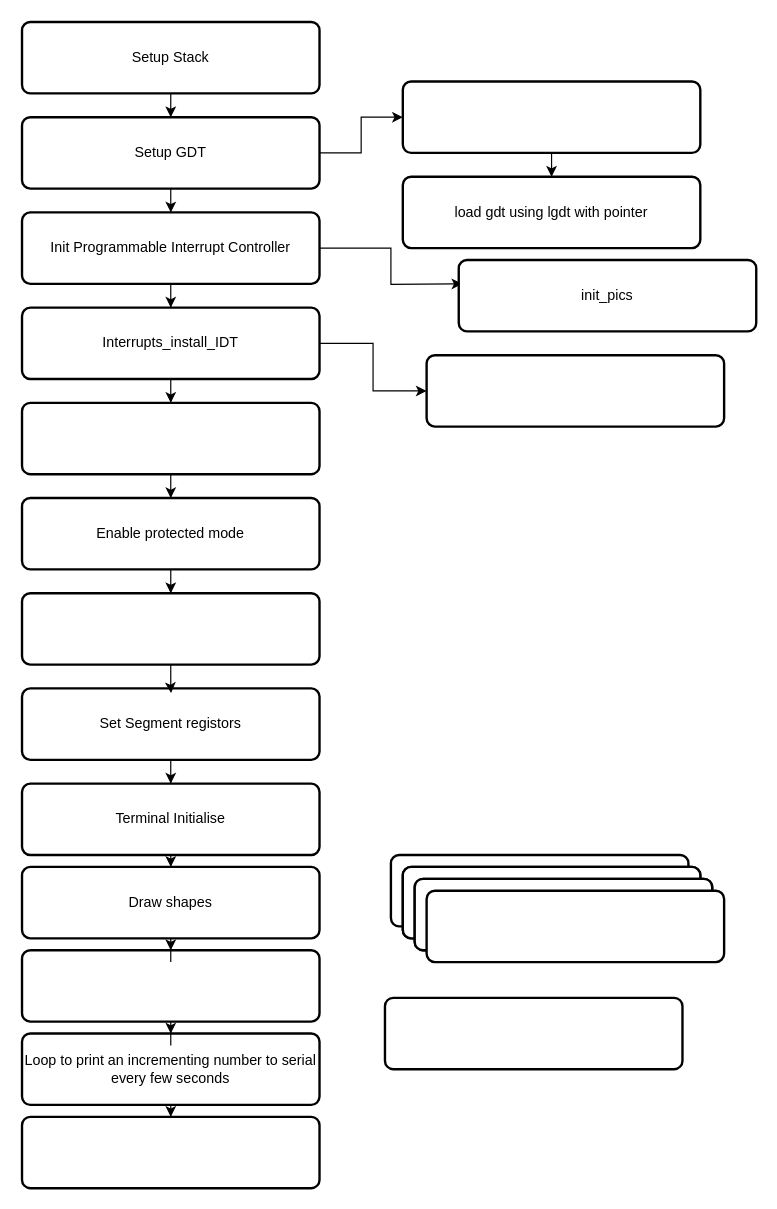
This 777x1209 diagram has some shape labels left out. Each missing label, with the centre of its shape:
"add keyboard to idt Load idt Remap PIC (might not be working)" goes at (575,390).
"Create segments (null, code, data) > gdt flush" goes at (551,117).
"Enable Interrupts" goes at (170,438).
"Run kernel c" goes at (170,985).
"Set Segment Registers" goes at (170,628).
